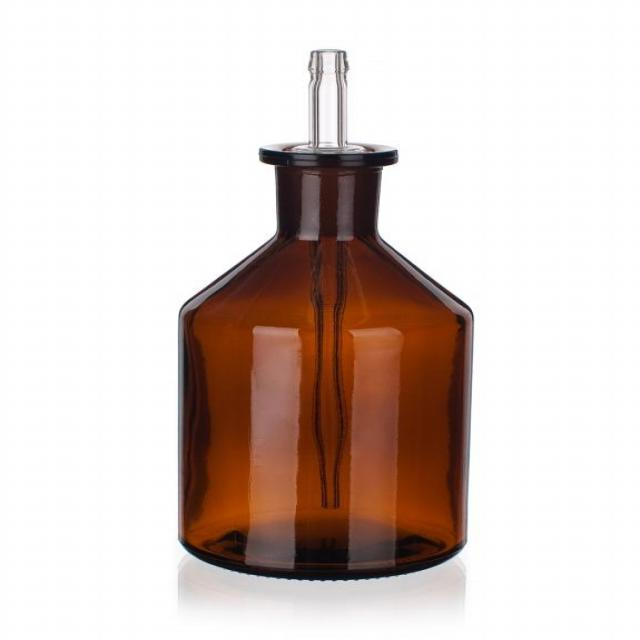glass: (172, 43, 478, 585)
